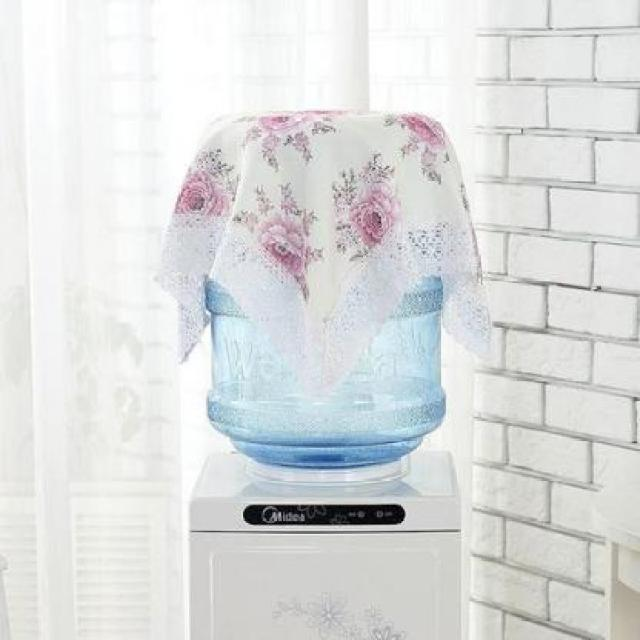coolerbottle: (197, 108, 449, 478)
